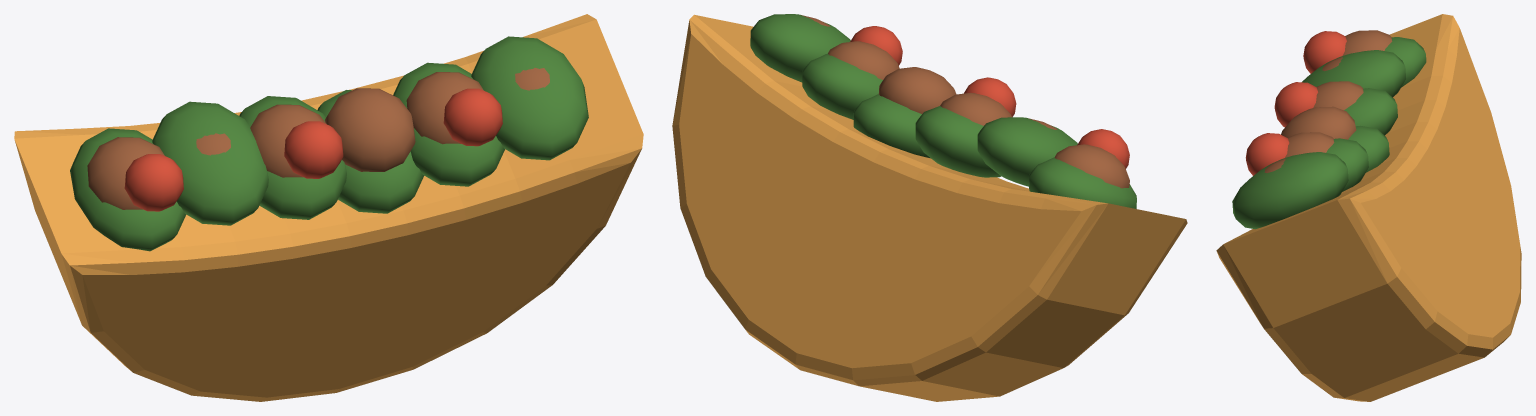
Rendered from taco.glb.
The picture shows the model from 3 angles, left to right: view 1: azimuth 30°, elevation 25°; view 2: azimuth 150°, elevation 25°; view 3: azimuth 270°, elevation 25°; orthographic projection. The views are drawn at different scales.
Visible parts, largest first — view 1: taco; view 2: taco; view 3: taco.
Boxes of the visible parts, x1=… form: taco: x1=14, y1=14, x2=643, y2=401; taco: x1=672, y1=14, x2=1187, y2=401; taco: x1=1216, y1=14, x2=1521, y2=401.
Bounding box in the file's own units: 0.9703 × 0.5831 × 0.5537.
